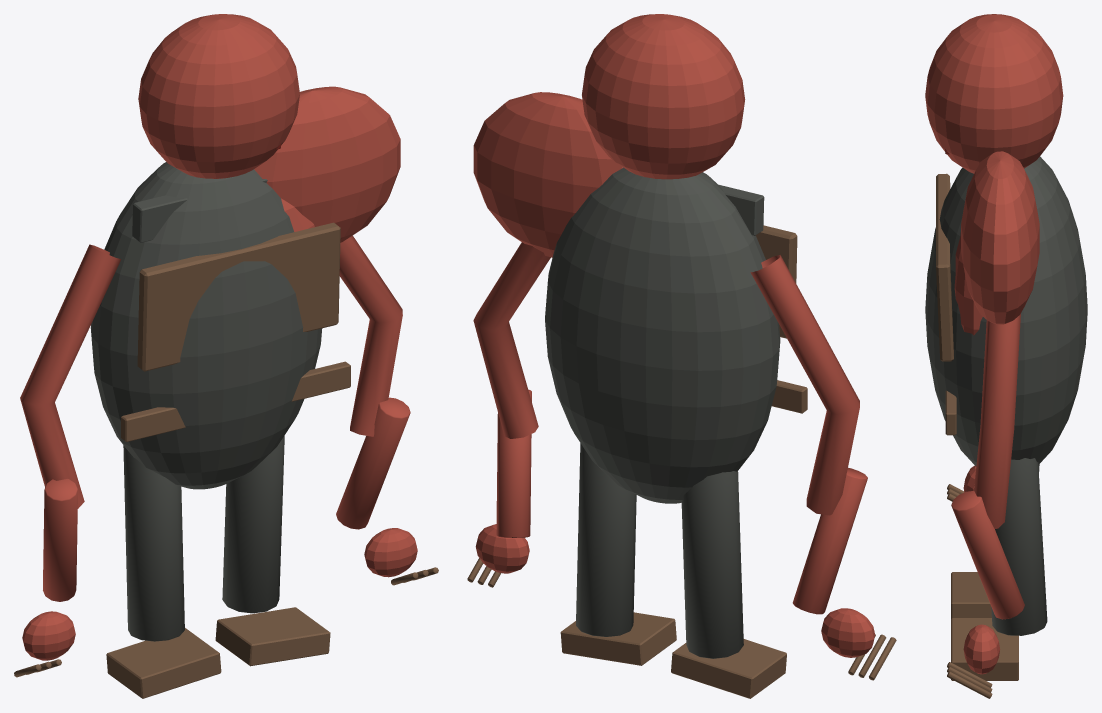
Rendered from dz_enemy_brute_male_A.glb.
3 renders of one model, left to right at view 1: azimuth 30°, elevation 25°; view 2: azimuth 150°, elevation 25°; view 3: azimuth 270°, elevation 25°, orthographic. The views are drawn at different scales.
Visible parts, largest first — view 1: dz_torso_core, dz_head_forward, dz_heavy_shoulder_mutation, dz_rusted_plate_chest, dz_limb_leg_L, dz_limb_arm_L, dz_limb_leg_R, dz_limb_arm_R, dz_foot_drag_L, dz_foot_drag_R, dz_limb_forearm_R, dz_limb_forearm_L (+4 smaller); view 2: dz_torso_core, dz_head_forward, dz_heavy_shoulder_mutation, dz_limb_leg_L, dz_limb_leg_R, dz_limb_arm_L, dz_limb_arm_R, dz_limb_forearm_L, dz_foot_drag_L, dz_foot_drag_R, dz_limb_forearm_R, dz_hand_claw_L (+4 smaller); view 3: dz_torso_core, dz_head_forward, dz_heavy_shoulder_mutation, dz_limb_arm_R, dz_limb_leg_R, dz_limb_forearm_R, dz_rusted_plate_chest, dz_foot_drag_R, dz_foot_drag_L, dz_hand_claw_R, dz_chest_infected_growth, dz_chain_belt_brute (+1 smaller).
Boxes of the visible parts, x1,y1,x2,y2 form: dz_torso_core: (90,162,322,489); dz_head_forward: (138,14,299,178); dz_heavy_shoulder_mutation: (254,86,400,242); dz_rusted_plate_chest: (137,222,340,371); dz_limb_leg_L: (123,445,184,641); dz_limb_arm_L: (20,244,120,508); dz_limb_leg_R: (222,436,284,613); dz_limb_arm_R: (339,235,402,436); dz_foot_drag_L: (106,628,221,698); dz_foot_drag_R: (215,607,330,666); dz_limb_forearm_R: (336,397,410,529); dz_limb_forearm_L: (43,479,77,601); dz_torso_core: (545,167,780,503); dz_head_forward: (582,14,745,179); dz_heavy_shoulder_mutation: (473,92,623,257); dz_limb_leg_L: (681,471,743,658); dz_limb_leg_R: (576,443,636,636); dz_limb_arm_L: (750,255,859,515); dz_limb_arm_R: (473,242,550,438); dz_limb_forearm_L: (792,467,867,614); dz_foot_drag_L: (671,639,786,698); dz_foot_drag_R: (560,612,676,665); dz_limb_forearm_R: (496,389,531,537); dz_hand_claw_L: (821,608,875,657); dz_torso_core: (925,156,1087,466); dz_head_forward: (925,14,1063,173); dz_heavy_shoulder_mutation: (961,151,1039,324); dz_limb_arm_R: (974,313,1020,528); dz_limb_leg_R: (991,458,1047,635); dz_limb_forearm_R: (951,491,1024,619); dz_rusted_plate_chest: (936,173,953,361); dz_foot_drag_R: (951,618,1018,680); dz_foot_drag_L: (951,572,991,618); dz_hand_claw_R: (963,624,1000,674); dz_chest_infected_growth: (954,232,982,335); dz_chain_belt_brute: (945,390,956,435).
Size of what is drawn, in the model's own units: 1.46 by 2.22 by 0.5284.
